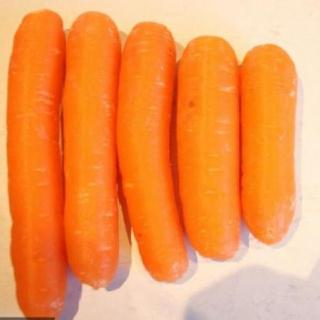carrot: (116, 19, 182, 299), (5, 7, 62, 320), (61, 8, 122, 292), (183, 34, 243, 266), (241, 40, 300, 247)
